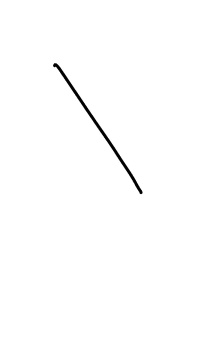Line: (50, 59, 148, 197)
